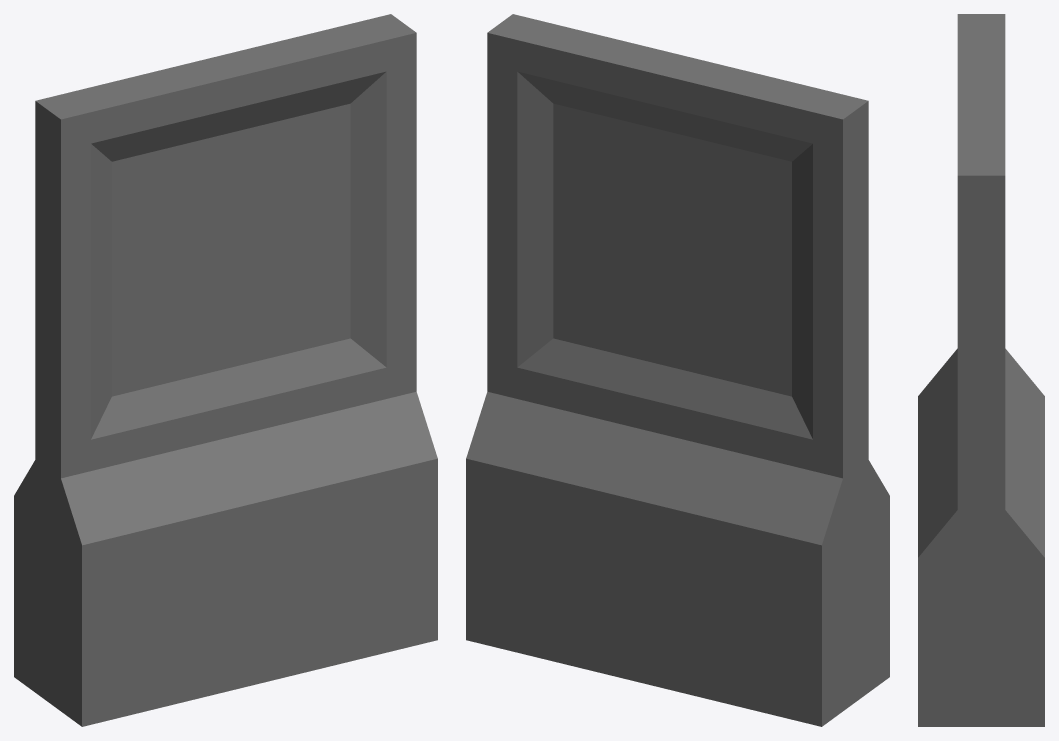
Rendered from Трава.fbx.
3 views of the same model, side by side, from view 1: azimuth 30°, elevation 25°; view 2: azimuth 150°, elevation 25°; view 3: azimuth 270°, elevation 25° (orthographic). The views are drawn at different scales.
Visible parts, largest first — view 1: Куб.023; view 2: Куб.023; view 3: Куб.023.
Part boxes in pixels (x1,y1,x2,y2): Куб.023: [14, 14, 437, 726]; Куб.023: [466, 14, 889, 726]; Куб.023: [918, 14, 1044, 726].
Size of the model in its own units: 410 by 652 by 136.
